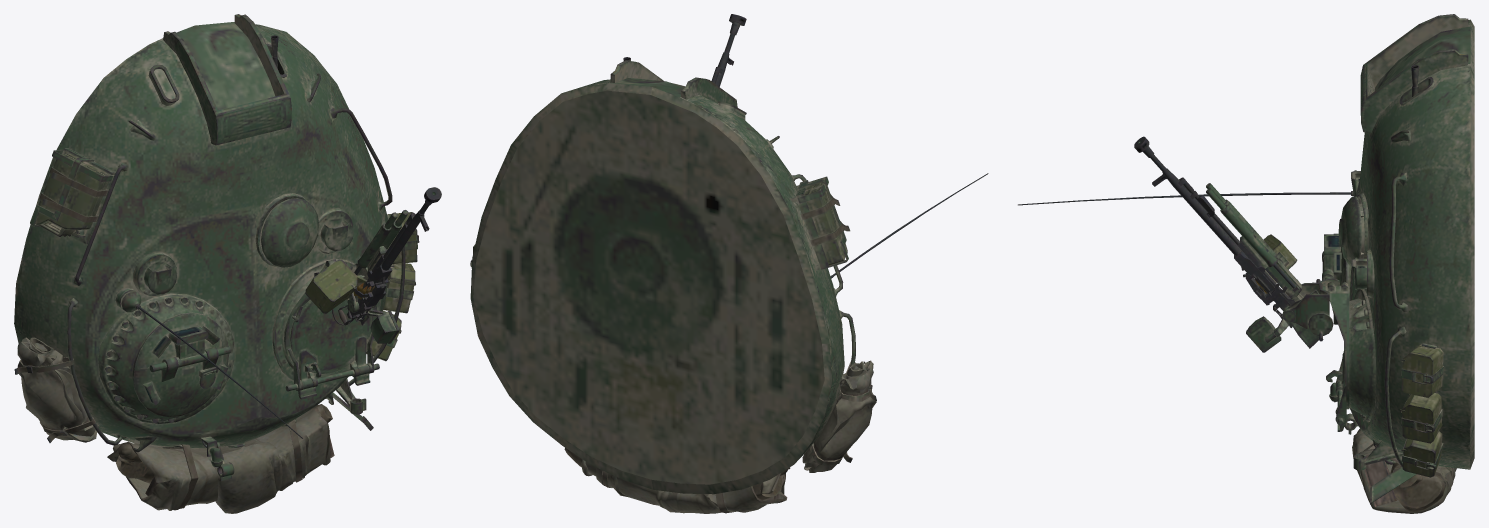
Rendered from Turret_02.glb.
3 renders of one model, left to right at view 1: azimuth 30°, elevation 25°; view 2: azimuth 150°, elevation 25°; view 3: azimuth 270°, elevation 25°, orthographic. The views are drawn at different scales.
Visible parts, largest first — view 1: set_0_group_0; view 2: set_0_group_0; view 3: set_0_group_0.
Part boxes in pixels (x1,y1,x2,y2): set_0_group_0: (14, 14, 441, 513); set_0_group_0: (470, 14, 988, 513); set_0_group_0: (1018, 14, 1474, 513).
Size of the model in its own units: 2.86 by 3.12 by 2.76.
Materials: 1 (1 with a texture image).
